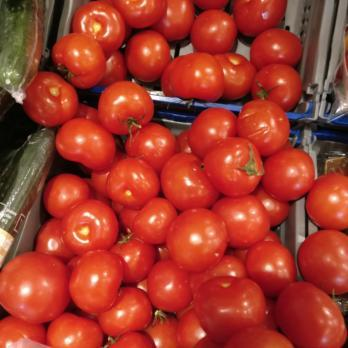Tomato: (52, 112, 348, 348), (66, 0, 308, 109)
